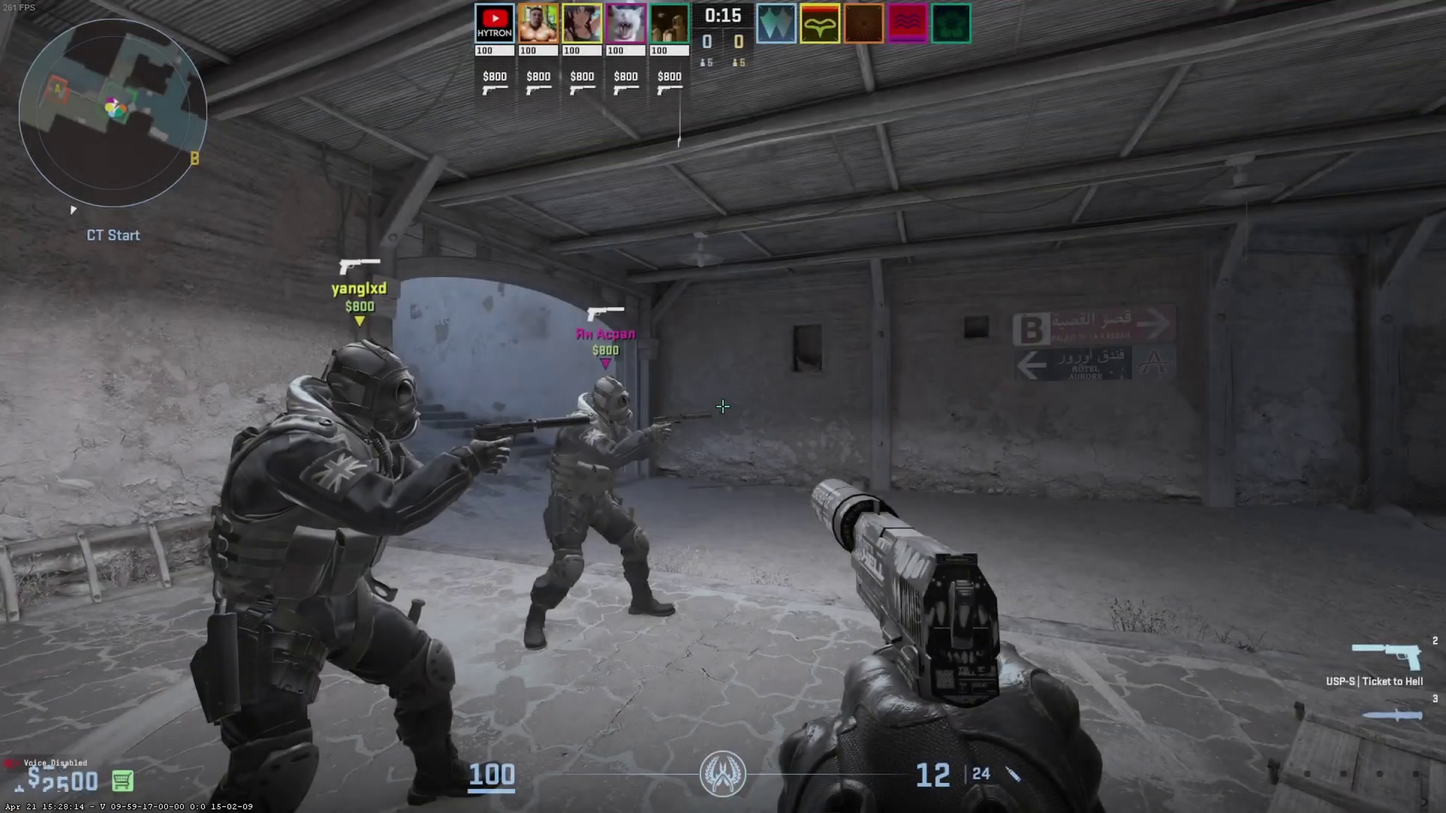CT: (205, 348, 432, 780), (536, 374, 637, 638)
